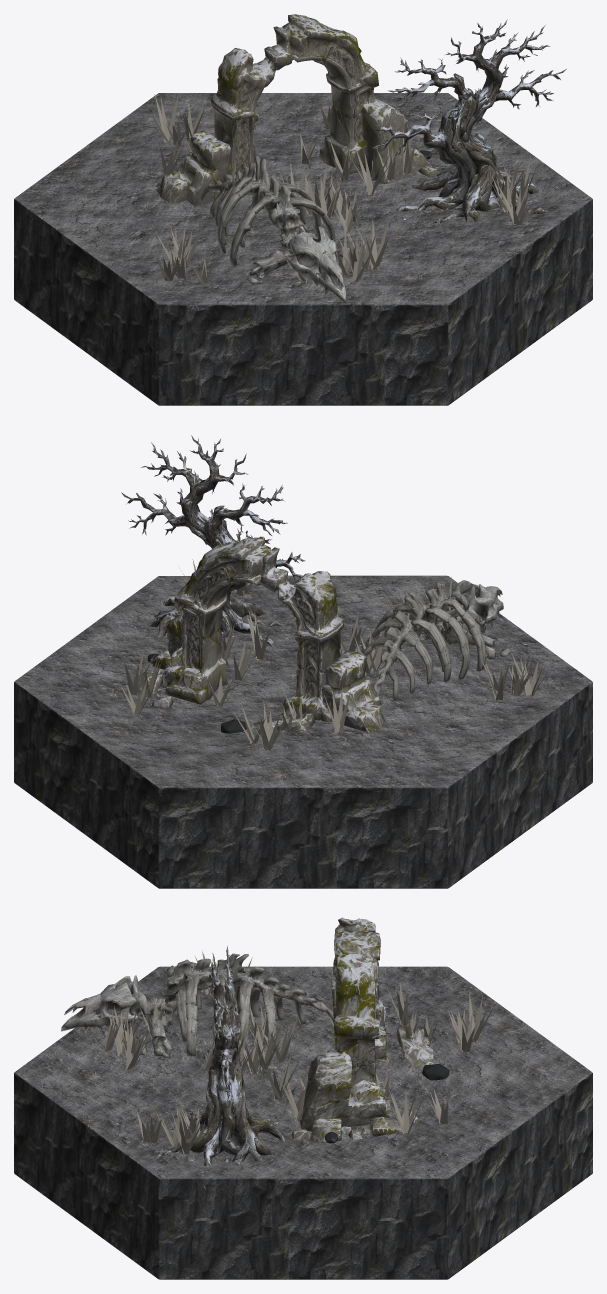
Rendered from ruins.glb.
3 views of the same model, one above another, from view 1: azimuth 30°, elevation 25°; view 2: azimuth 150°, elevation 25°; view 3: azimuth 270°, elevation 25° (orthographic).
Visible parts, largest first — view 1: Plains tile.002, Arch prop, Dead tree prop, Bones prop; view 2: Plains tile.002, Arch prop, Bones prop, Dead tree prop; view 3: Plains tile.002, Arch prop, Bones prop, Dead tree prop.
Boxes of the visible parts, x1,y1,x2,y2 form: Plains tile.002: (14, 93, 592, 405); Arch prop: (156, 14, 438, 205); Dead tree prop: (372, 19, 566, 224); Bones prop: (200, 155, 349, 303); Plains tile.002: (14, 559, 592, 888); Arch prop: (138, 536, 385, 732); Bones prop: (363, 580, 511, 700); Dead tree prop: (121, 435, 305, 647); Plains tile.002: (14, 950, 592, 1279); Arch prop: (291, 917, 433, 1142); Bones prop: (61, 953, 333, 1057); Dead tree prop: (154, 946, 286, 1189).
Size of the model in its own units: 1.72 by 1.05 by 1.96.
Materials: 6 (5 with a texture image).
